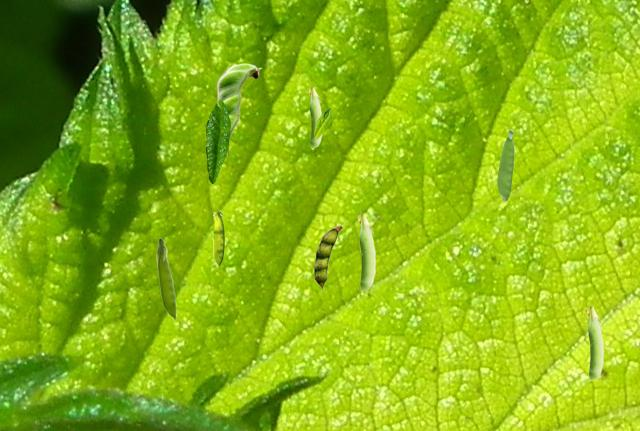pea: (216, 63, 261, 155), (314, 225, 341, 291), (156, 237, 176, 321), (356, 211, 374, 290), (585, 304, 602, 379), (497, 129, 513, 200), (307, 85, 321, 147), (213, 212, 223, 266)
